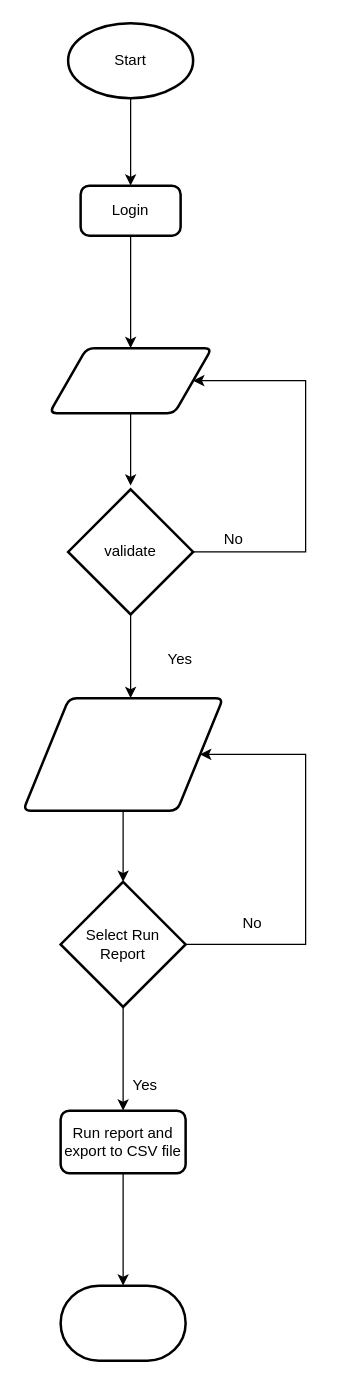
This 338x1383 diagram has some shape labels left out. Each missing label, with the centre of its shape:
Display Main Screen: the point at 122,753
End: the point at 122,1322
Get id, password: the point at 130,380
